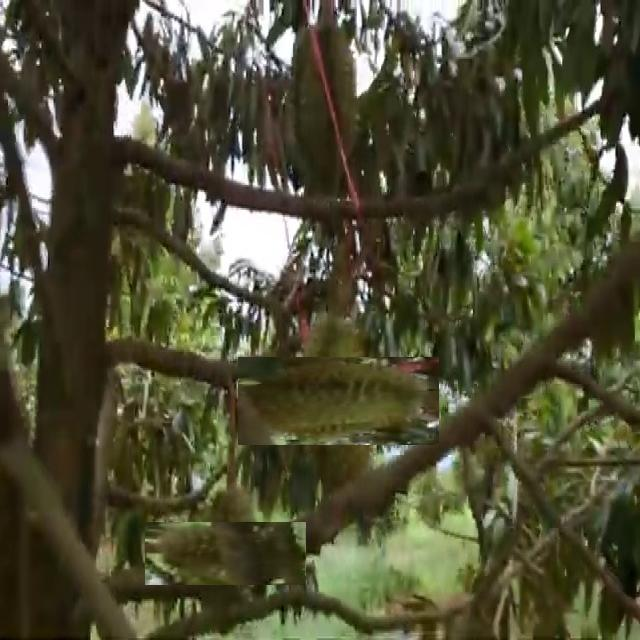durian: (265, 329, 411, 473), (284, 21, 360, 200), (170, 497, 282, 610)
